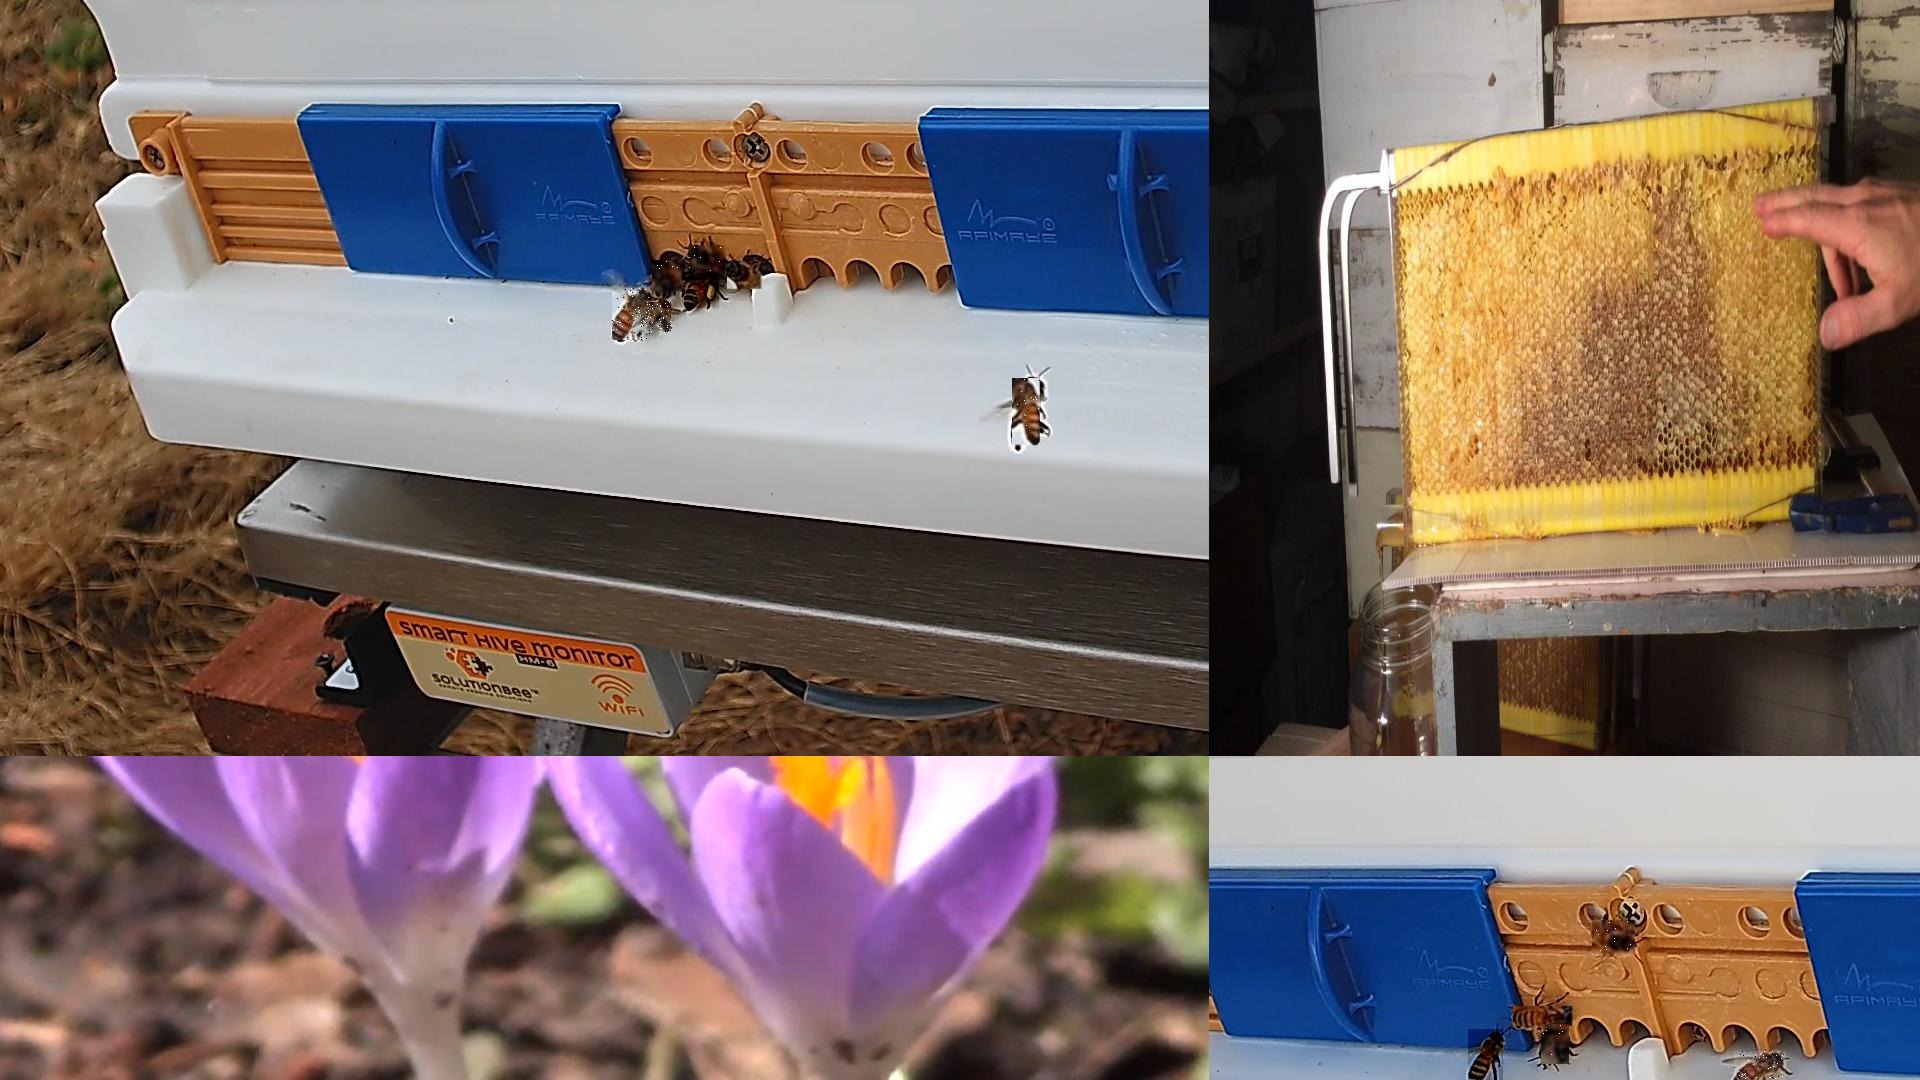bee: (613, 285, 651, 341), (1012, 379, 1041, 450), (1468, 1029, 1505, 1079), (1592, 921, 1636, 957), (1733, 1051, 1788, 1079), (1514, 1006, 1577, 1027), (689, 245, 726, 280), (1541, 1024, 1570, 1065), (636, 303, 672, 336), (652, 261, 686, 295), (728, 261, 766, 290)
pollenbee: (682, 273, 720, 309)
